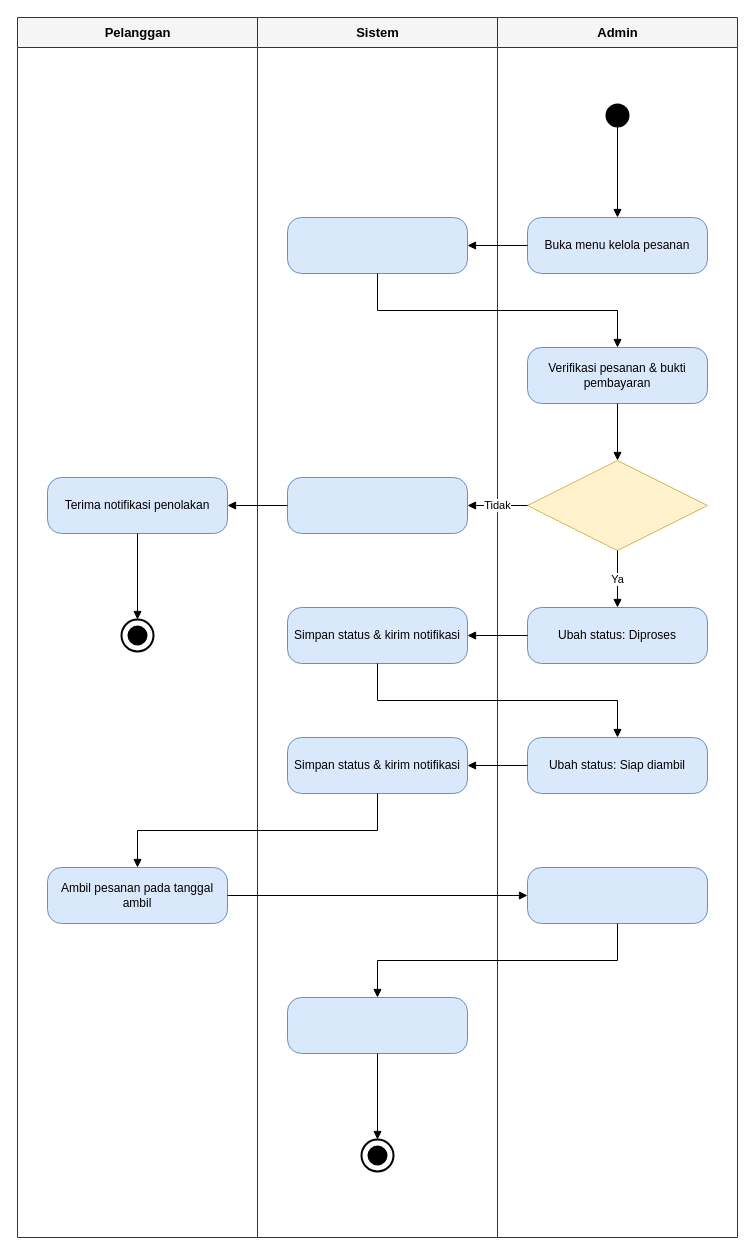
Image size: 755x1255. Some labels were removed from this diagram. The centre of each missing label's shape, as x and y in pixels:
Kirim notifikasi penolakan: the point at 377,505
Pesanan disetujui?: the point at 617,505
Simpan riwayat, update rekap bahan baku & laporan: the point at 377,1025
Tampilkan daftar pesanan masuk: the point at 377,245
Ubah status: Selesai: the point at 617,895
